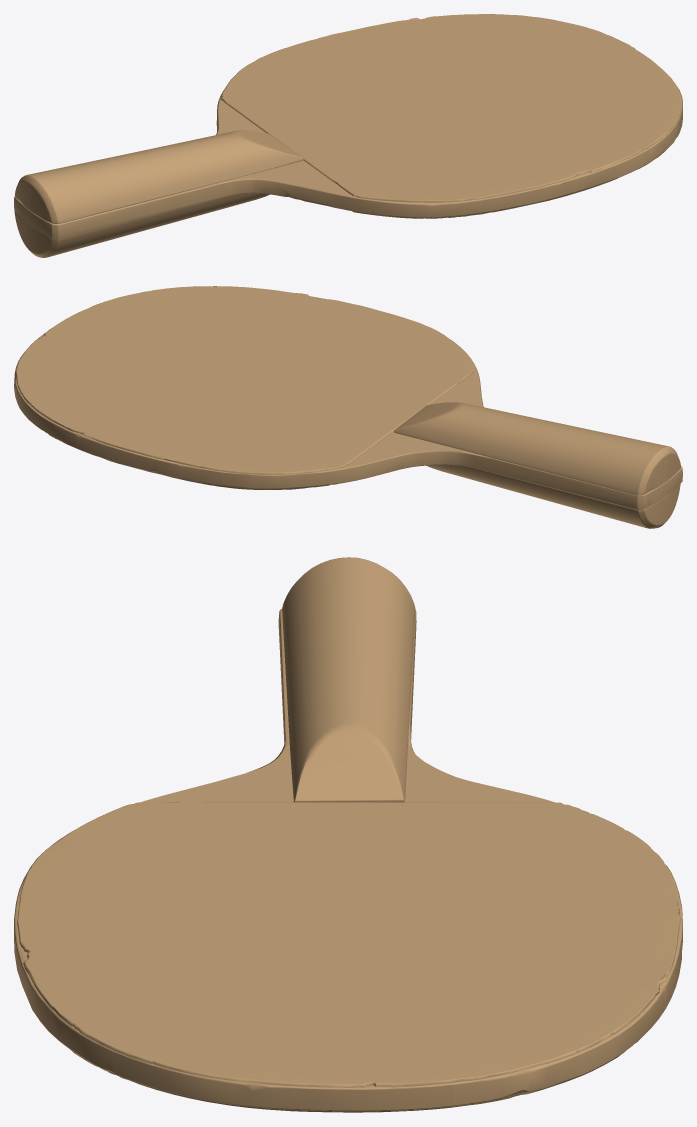
File: misc_toy_pongPaddle_bat_a01.glb
3 views of the same model, one above another, from view 1: azimuth 30°, elevation 25°; view 2: azimuth 150°, elevation 25°; view 3: azimuth 270°, elevation 25° (orthographic). The views are drawn at different scales.
Size of the model in its own units: 0.2618 by 0.0311 by 0.1524.
